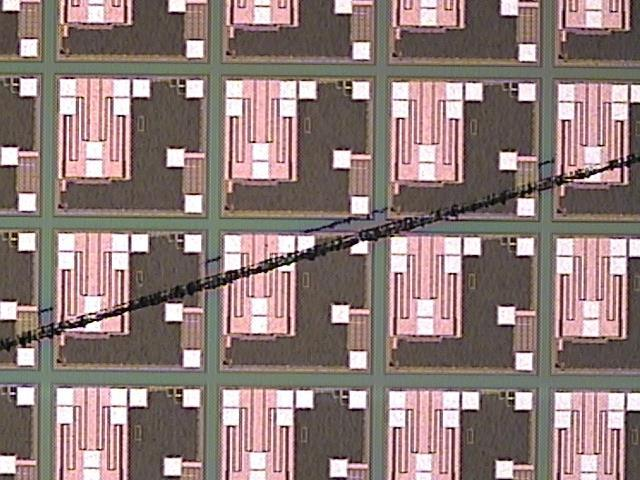SCRATCH: (1, 134, 640, 356)
